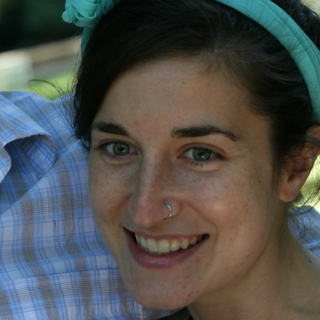eye: (178, 143, 229, 168), (95, 138, 140, 163)
